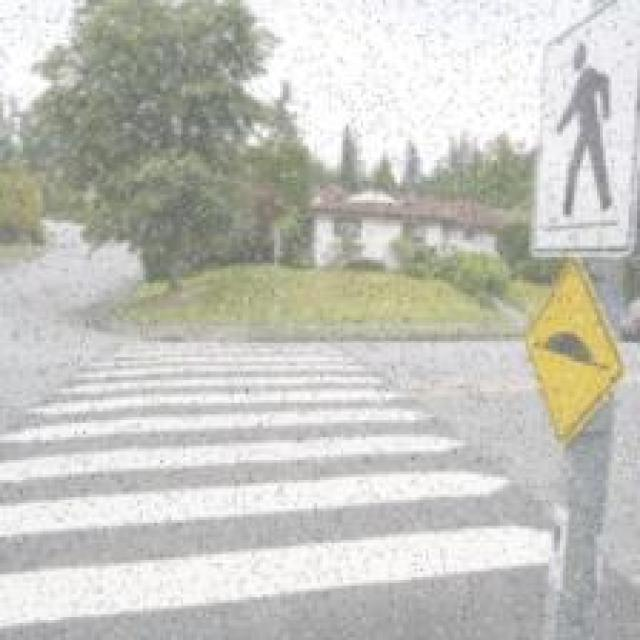crosswalk: (0, 316, 554, 640)
